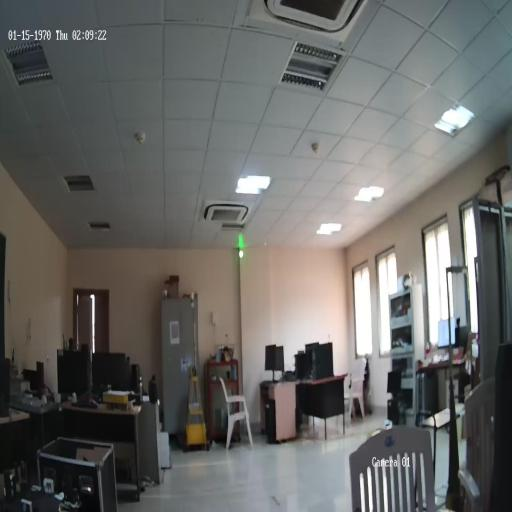laser: (238, 247, 243, 260)
